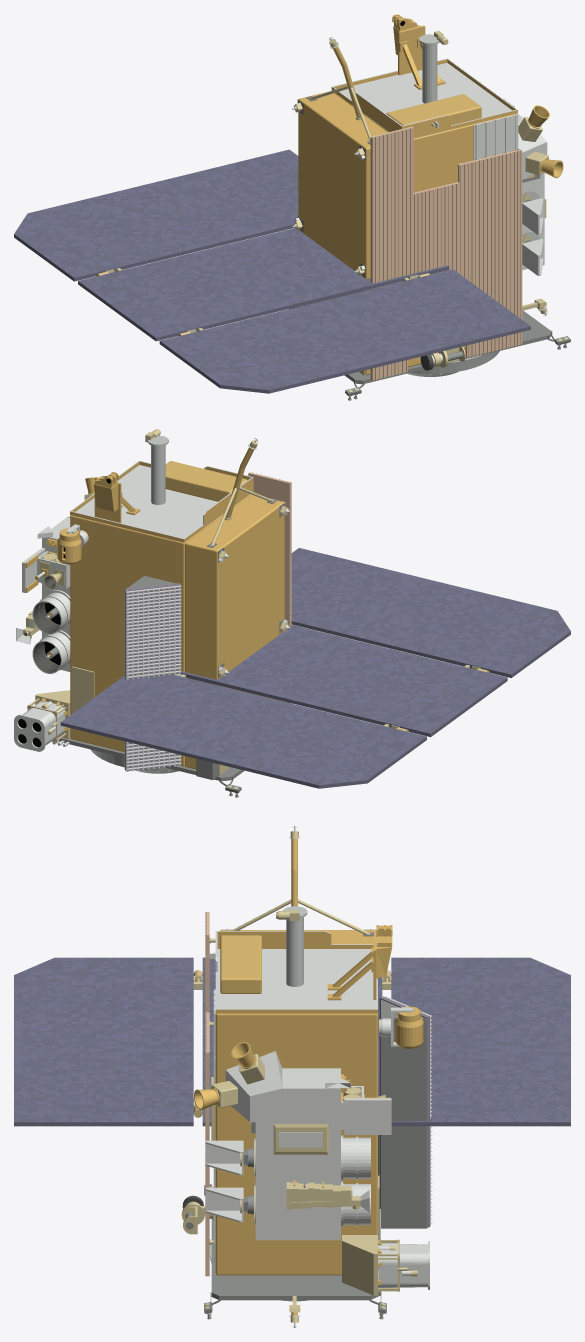
The model's file is lro.glb.
The picture shows the model from 3 angles, top to bottom: view 1: azimuth 30°, elevation 25°; view 2: azimuth 150°, elevation 25°; view 3: azimuth 270°, elevation 25°; orthographic projection. The views are drawn at different scales.
Parts seen in each view (by area): view 1: Layer_0; view 2: Layer_0; view 3: Layer_0.
Boxes of the visible parts, x1,y1,x2,y2 form: Layer_0: (14, 14, 570, 400); Layer_0: (14, 429, 570, 797); Layer_0: (14, 826, 570, 1327).
Size of the model in its own units: 33.28 by 26.29 by 32.26.
Materials: 4 (4 with a texture image).
